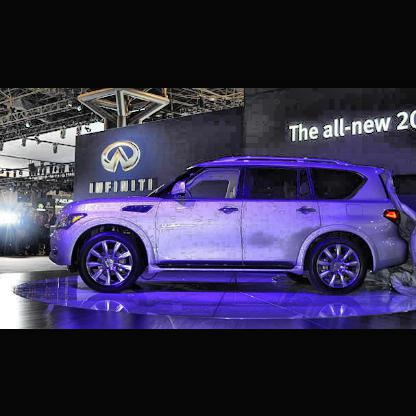Infiniti QX56 SUV 2011: (50, 158, 410, 294)
